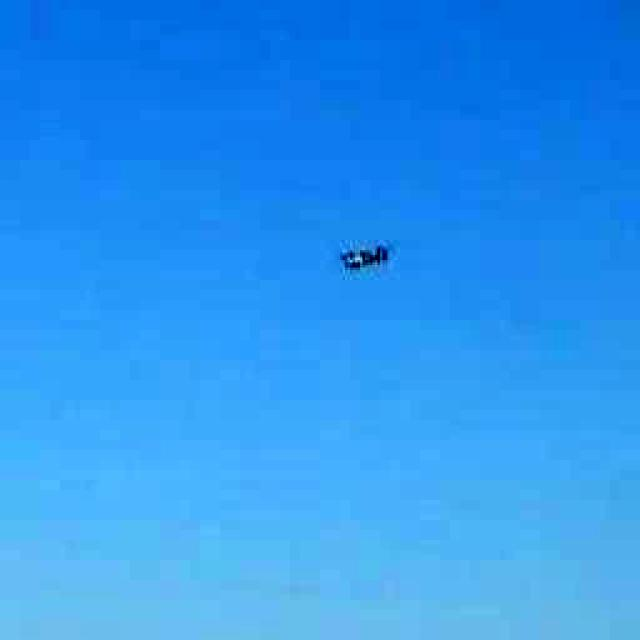bird: (312, 221, 412, 289)
